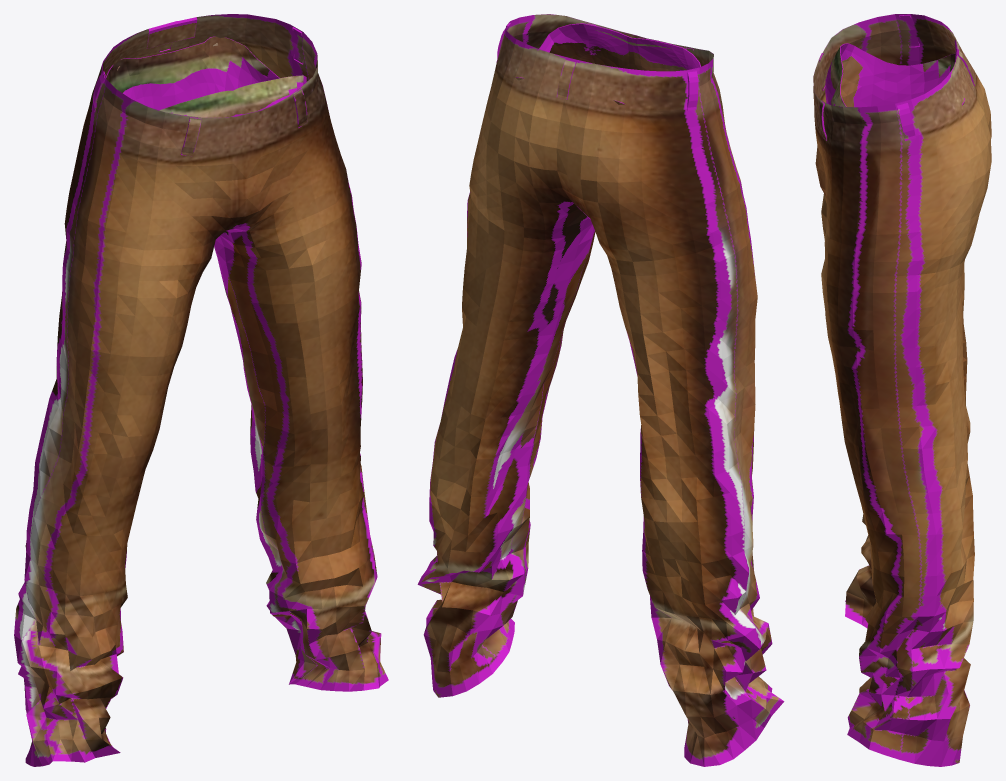
The picture shows the model from 3 angles, left to right: view 1: azimuth 30°, elevation 25°; view 2: azimuth 150°, elevation 25°; view 3: azimuth 270°, elevation 25°; orthographic projection. The views are drawn at different scales.
Bounding box in the file's own units: 0.413 × 0.7909 × 0.1957.
1 material, 1 textured.
